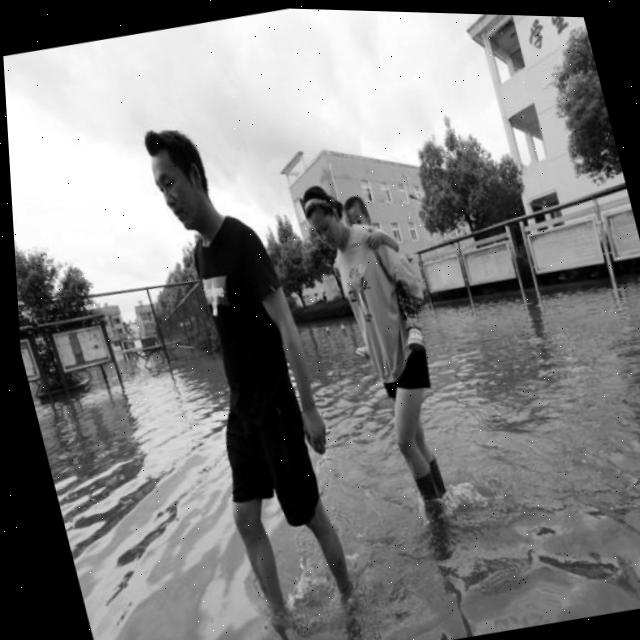civilian: (98, 87, 396, 640), (278, 151, 497, 595), (299, 160, 448, 384)
